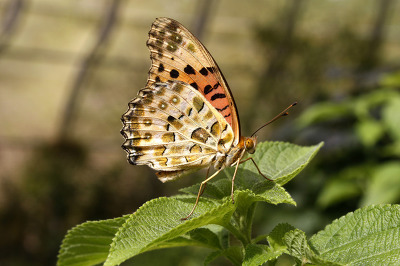Argyreus hyperbius: (115, 7, 297, 218)
butterfly: (117, 9, 299, 220)
